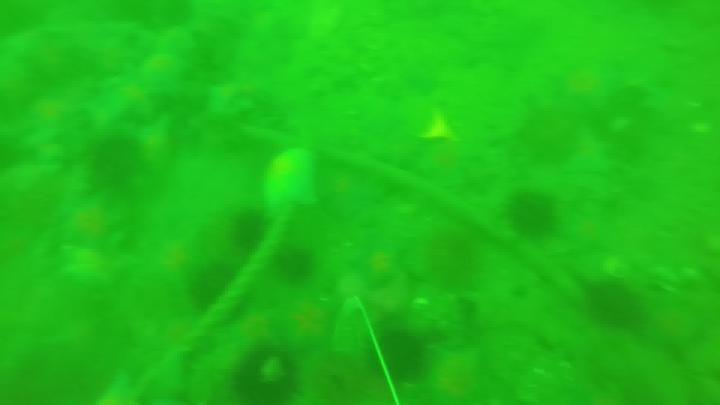echinus: (574, 279, 651, 337), (232, 345, 291, 405), (190, 264, 252, 313), (504, 187, 561, 239), (87, 137, 145, 188), (371, 329, 421, 377), (232, 211, 265, 250), (280, 244, 314, 279)
scallop: (405, 107, 461, 142)
